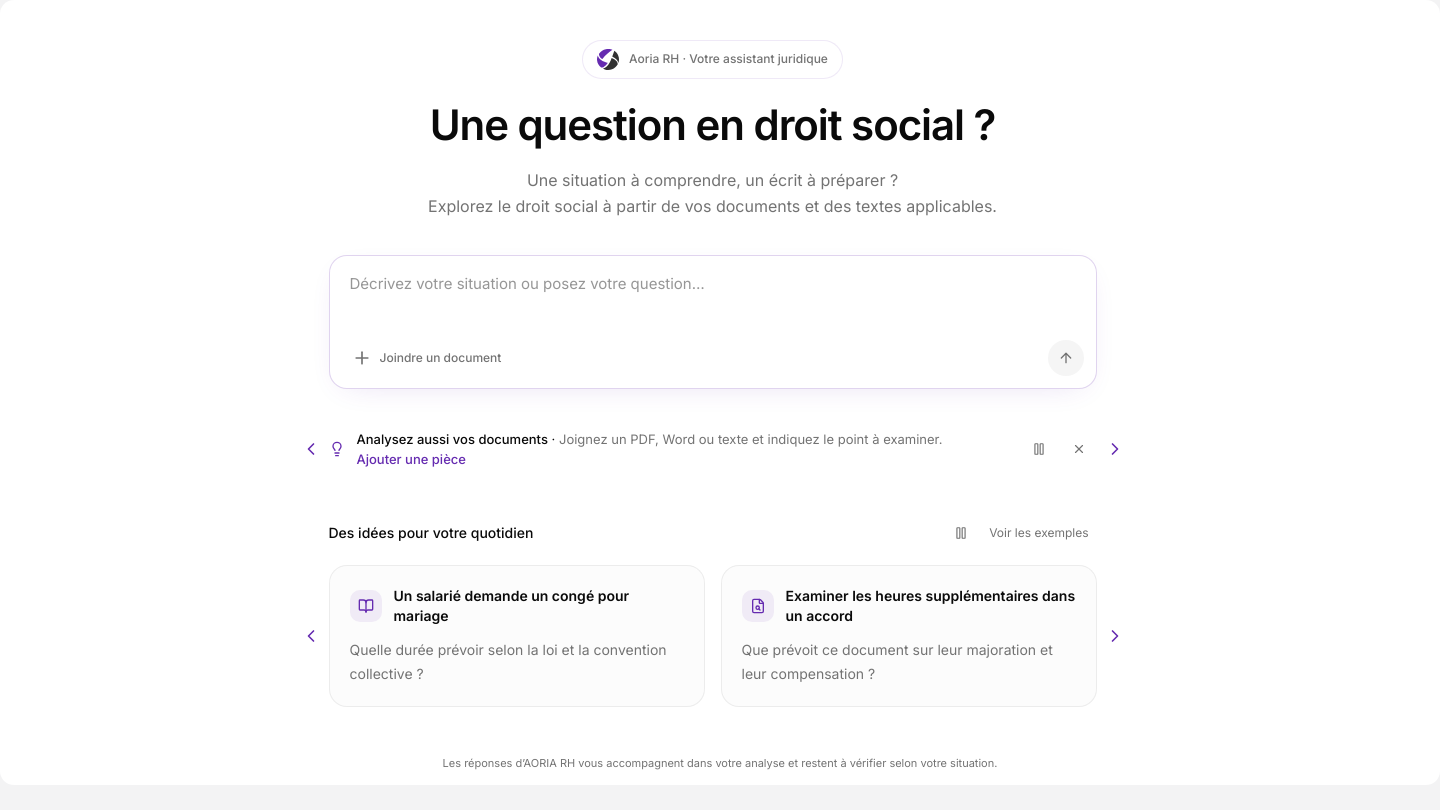
Test: shows attachment controls immediately without creating a conversation on page load
Click the button with aria-label "Ajouter des documents".
click(426, 358)  # box left=342, top=340, right=511, bottom=376
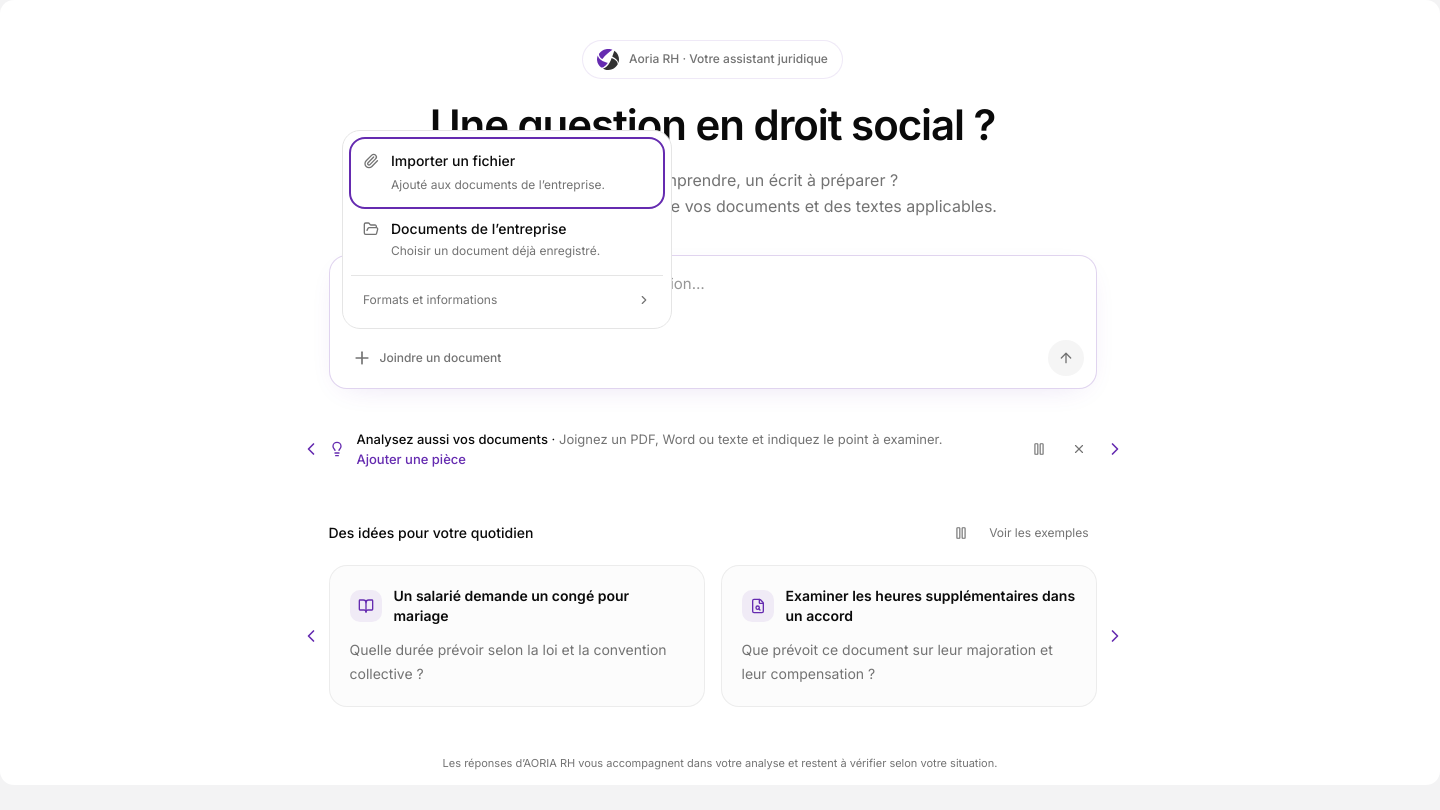
Check: the button "Documents de l’entreprise" is enabled, box left=351, top=206, right=663, bottom=270
